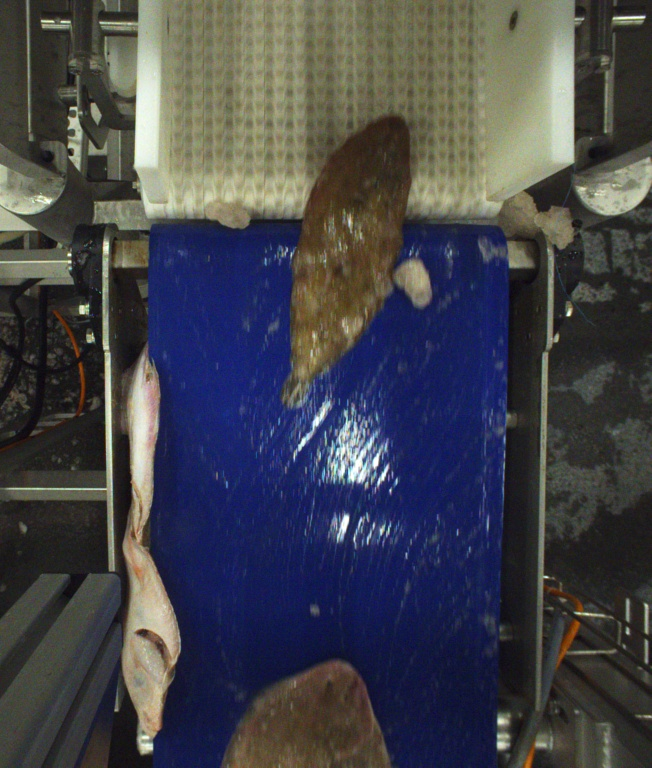SOL: (218, 658, 390, 768)
